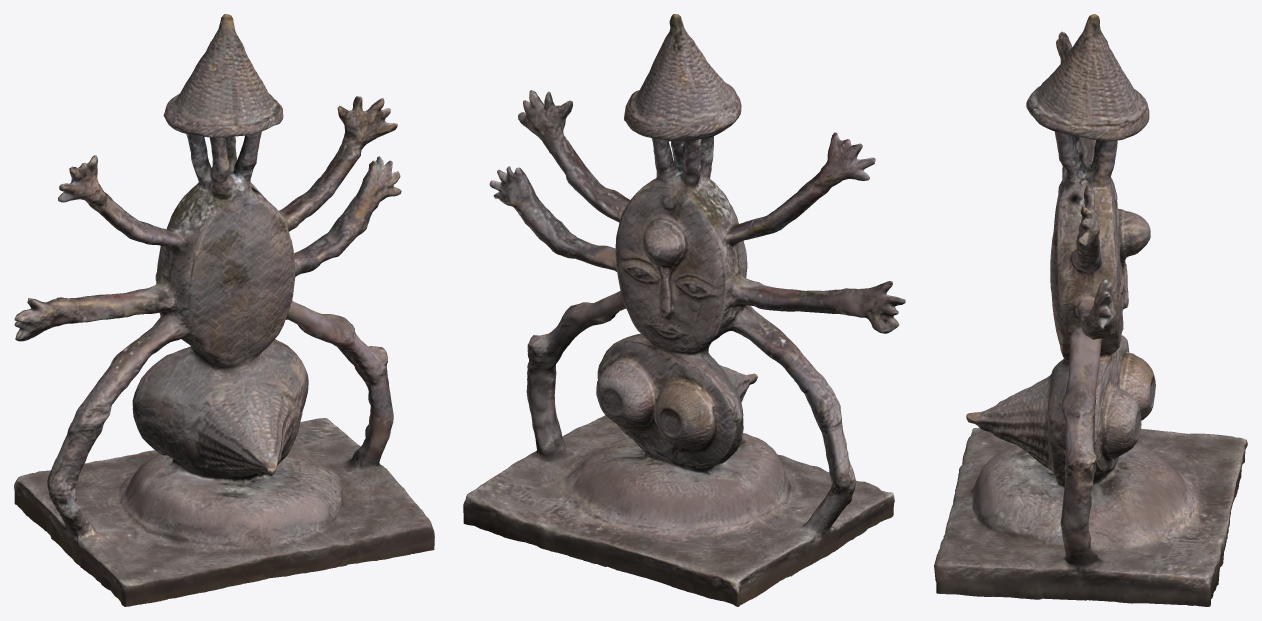
File: parekh-bronze-2-1.glb
3 views of the same model, side by side, from view 1: azimuth 30°, elevation 25°; view 2: azimuth 150°, elevation 25°; view 3: azimuth 270°, elevation 25° (orthographic).
Visible parts, largest first — view 1: Mesh; view 2: Mesh; view 3: Mesh.
Part boxes in pixels (bbox=[...]): Mesh: bbox=[14, 14, 434, 606]; Mesh: bbox=[463, 14, 905, 606]; Mesh: bbox=[934, 14, 1247, 606].
Bounding box in the file's own units: 40.11 × 48.55 × 26.82.
Materials: 1 (1 with a texture image).
